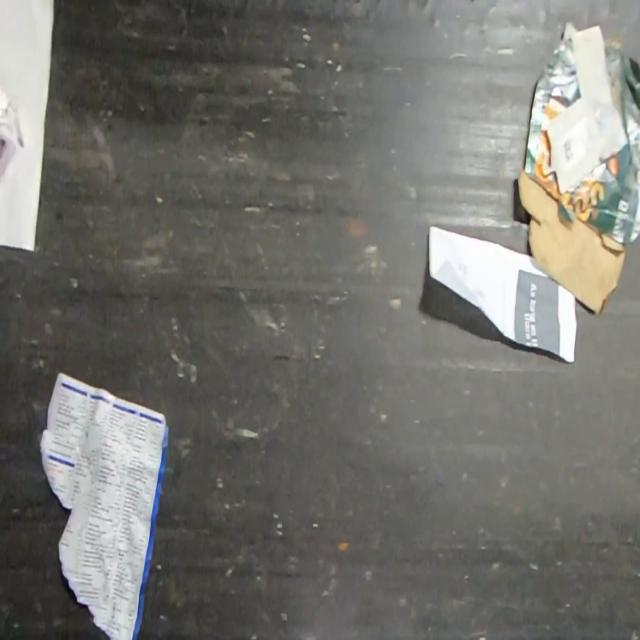cardboard: (516, 17, 640, 317)
